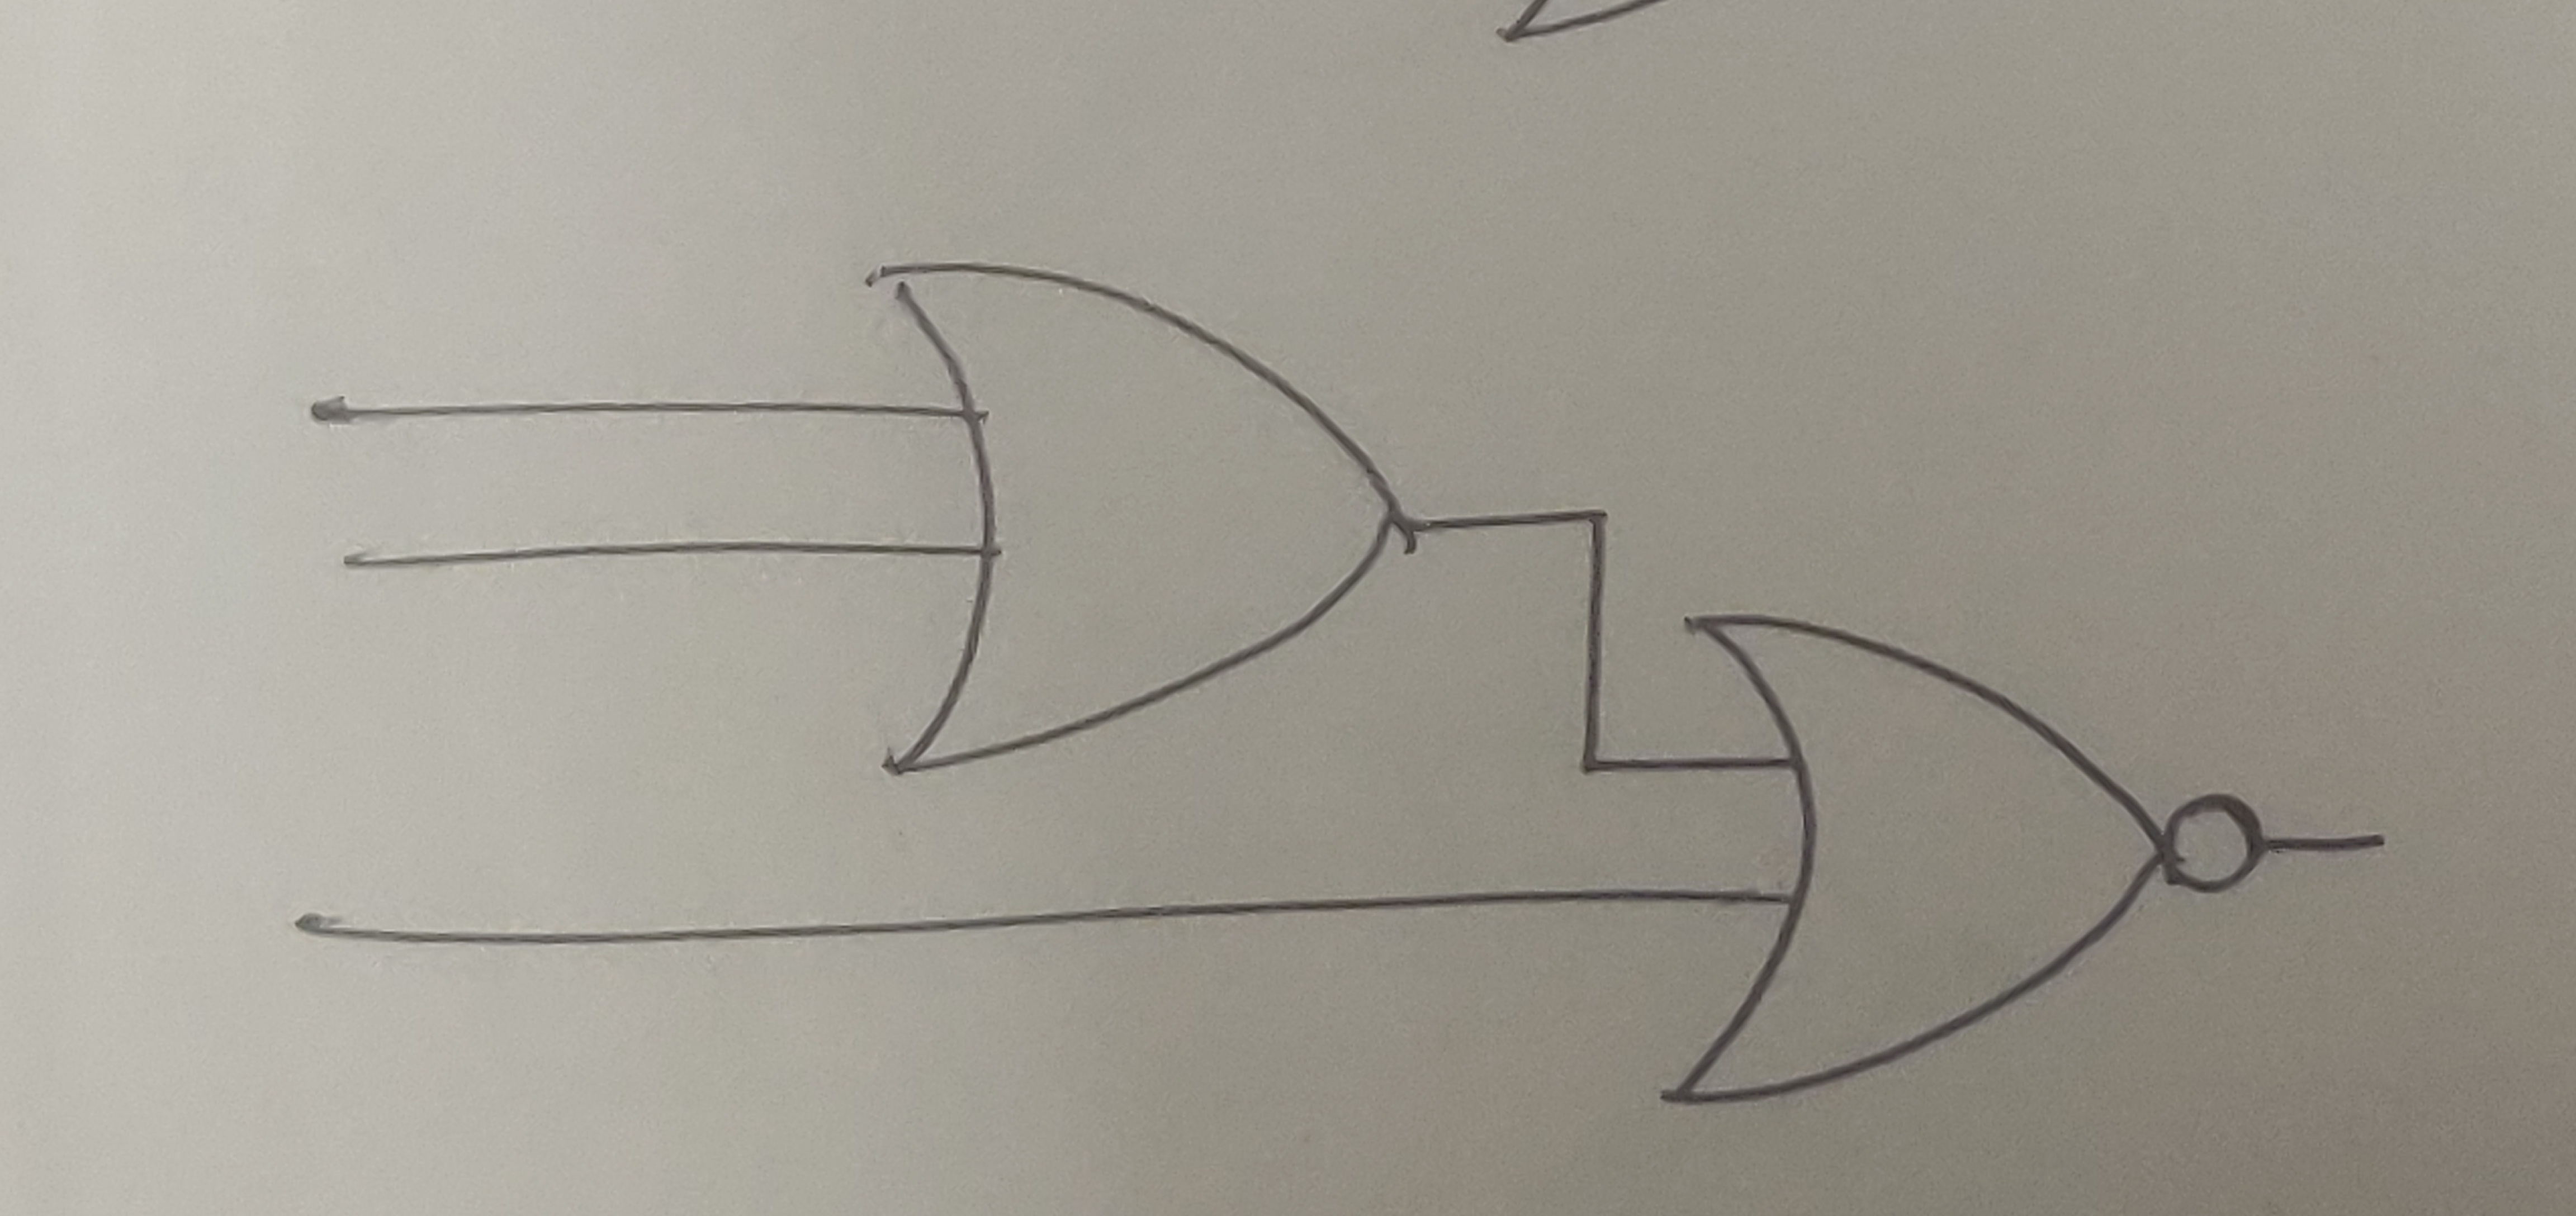not: (2162, 789, 2270, 904)
or: (866, 250, 1400, 785), (1666, 608, 2165, 1111)
